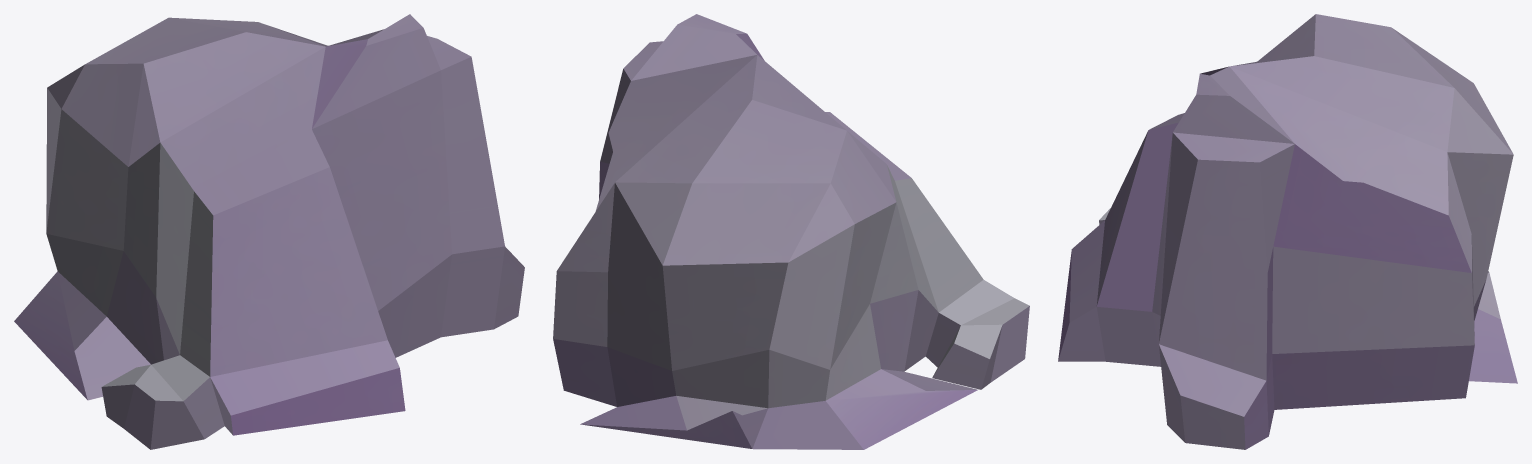
Rendered from Rock_Boulder04.fbx.
3 renders of one model, left to right at view 1: azimuth 30°, elevation 25°; view 2: azimuth 150°, elevation 25°; view 3: azimuth 270°, elevation 25°, orthographic. The views are drawn at different scales.
Visible parts, largest first — view 1: Medium Rock; view 2: Medium Rock; view 3: Medium Rock.
Part boxes in pixels (left/top/right/bottom): Medium Rock: left=14, top=14, right=524, bottom=449; Medium Rock: left=553, top=14, right=1029, bottom=449; Medium Rock: left=1058, top=14, right=1517, bottom=449.
Bounding box in the file's own units: 85.2 × 63.38 × 82.06.
